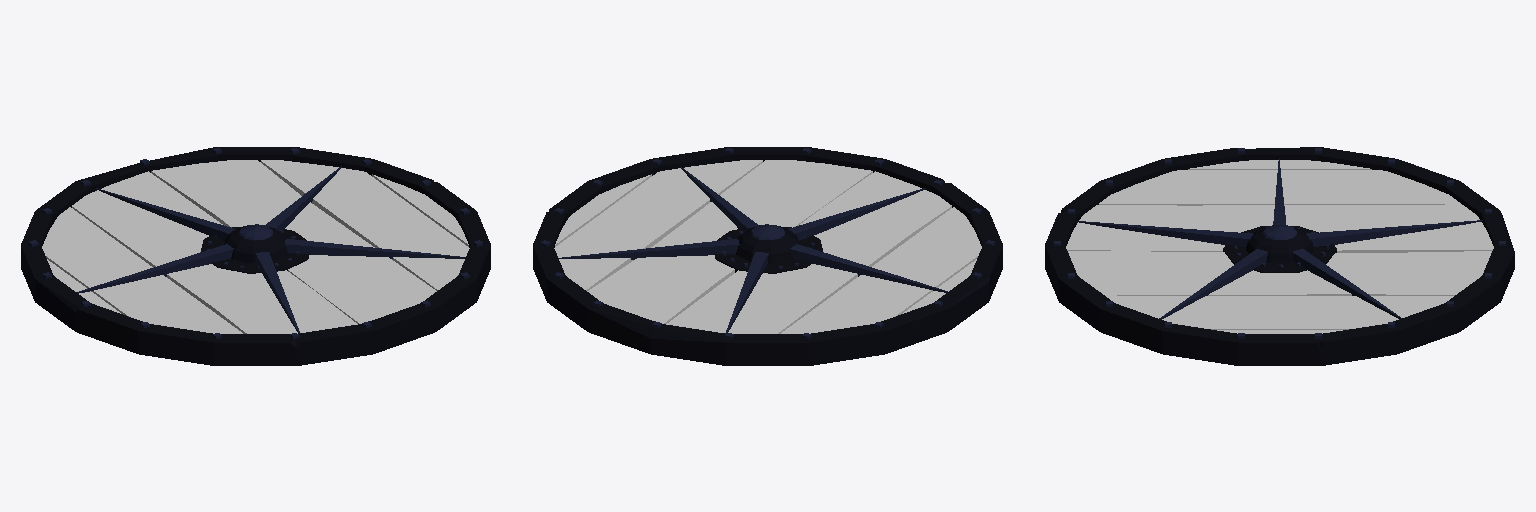
Rendered from Shield_2.obj.
3 renders of one model, left to right at view 1: azimuth 30°, elevation 25°; view 2: azimuth 150°, elevation 25°; view 3: azimuth 270°, elevation 25°, orthographic.
Visible parts, largest first — view 1: Shield_2; view 2: Shield_2; view 3: Shield_2.
Boxes of the visible parts, x1=… form: Shield_2: x1=21, y1=147, x2=490, y2=365; Shield_2: x1=533, y1=147, x2=1002, y2=365; Shield_2: x1=1045, y1=147, x2=1514, y2=365.
Bounding box in the file's own units: 0.9046 × 0.1267 × 0.9186.